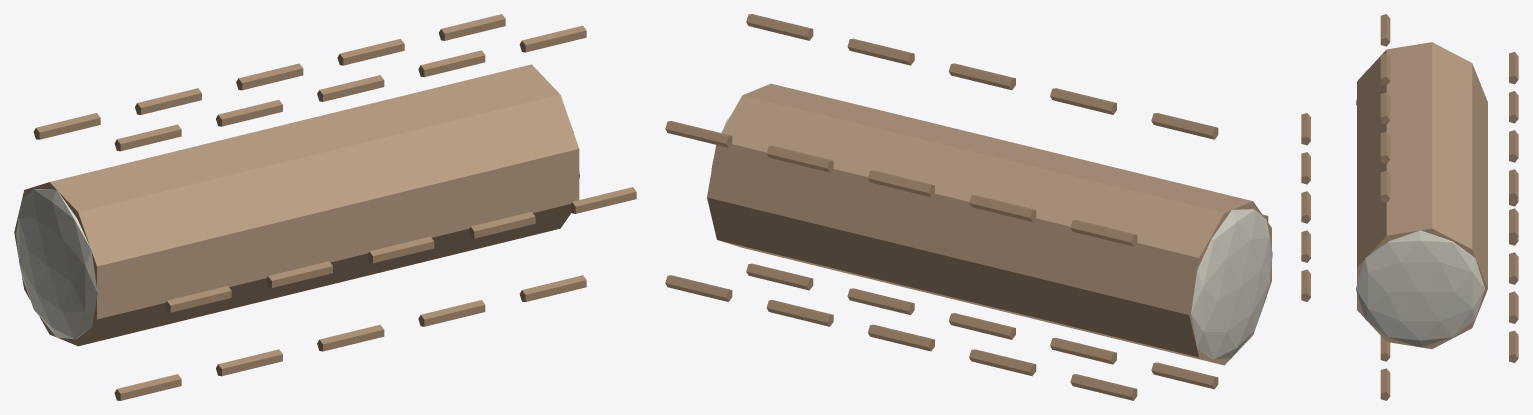
The model's file is small_log.glb.
3 renders of one model, left to right at view 1: azimuth 30°, elevation 25°; view 2: azimuth 150°, elevation 25°; view 3: azimuth 270°, elevation 25°, orthographic. The views are drawn at different scales.
Visible parts, largest first — view 1: Trunk, End_-75, Bark_2_4, Bark_3_2, Bark_0_1, Bark_2_1, Bark_2_2, Bark_3_0, Bark_3_1, Bark_2_0, Bark_3_4, Bark_0_0 (+10 smaller); view 2: Trunk, End_-75, Bark_3_4, Bark_4_1, Bark_0_2, Bark_0_3, Bark_0_4, Bark_4_2, Bark_4_4, Bark_0_1, Bark_1_2, Bark_1_3 (+10 smaller); view 3: Trunk, End_75, Bark_4_1, Bark_0_1, Bark_1_1, Bark_2_1, Bark_3_1, Bark_4_4, Bark_1_0, Bark_3_0, Bark_0_0, Bark_2_0 (+10 smaller).
Part boxes in pixels (x1,y1,x2,y2): Trunk: (14,64,579,346); End_-75: (16,189,97,339); Bark_2_4: (317,324,384,351); Bark_3_2: (337,38,404,65); Bark_0_1: (114,124,181,151); Bark_2_1: (317,75,384,101); Bark_2_2: (236,63,303,90); Bark_3_0: (468,211,535,238); Bark_3_1: (418,50,485,77); Bark_2_0: (367,236,434,263); Bark_3_4: (418,300,485,326); Bark_0_0: (164,286,231,312); Trunk: (707,83,1271,365); End_-75: (1191,209,1272,359); Bark_3_4: (847,288,914,315); Bark_4_1: (746,14,813,40); Bark_0_2: (1070,219,1137,246); Bark_0_3: (1070,374,1137,400); Bark_0_4: (1151,362,1218,389); Bark_4_2: (665,121,732,147); Bark_4_4: (746,263,813,290); Bark_0_1: (1151,113,1218,139); Bark_1_2: (969,195,1036,221); Bark_1_3: (969,349,1036,376); Trunk: (1357,42,1487,348); End_75: (1356,230,1484,347); Bark_4_1: (1380,170,1390,203); Bark_0_1: (1380,14,1390,46); Bark_1_1: (1380,53,1390,85); Bark_2_1: (1380,92,1390,124); Bark_3_1: (1380,131,1390,163); Bark_4_4: (1380,368,1390,400); Bark_1_0: (1301,152,1310,184); Bark_3_0: (1301,230,1310,262); Bark_0_0: (1301,113,1310,145); Bark_2_0: (1301,191,1310,223).
Size of the model in its own units: 1.6 by 0.7761 by 0.7381.
